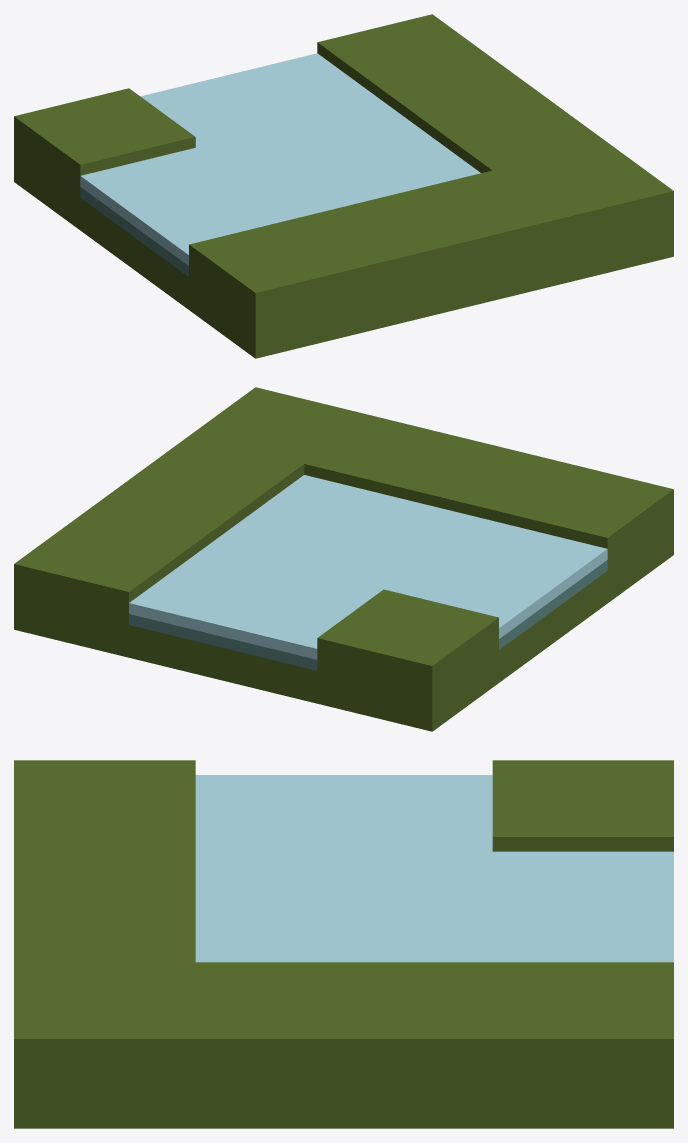
Rendered from river002.obj.
The picture shows the model from 3 angles, top to bottom: view 1: azimuth 30°, elevation 25°; view 2: azimuth 150°, elevation 25°; view 3: azimuth 270°, elevation 25°; orthographic projection. The views are drawn at different scales.
Size of the model in its own units: 4 by 0.6 by 4.
Materials: 1 (1 with a texture image).
